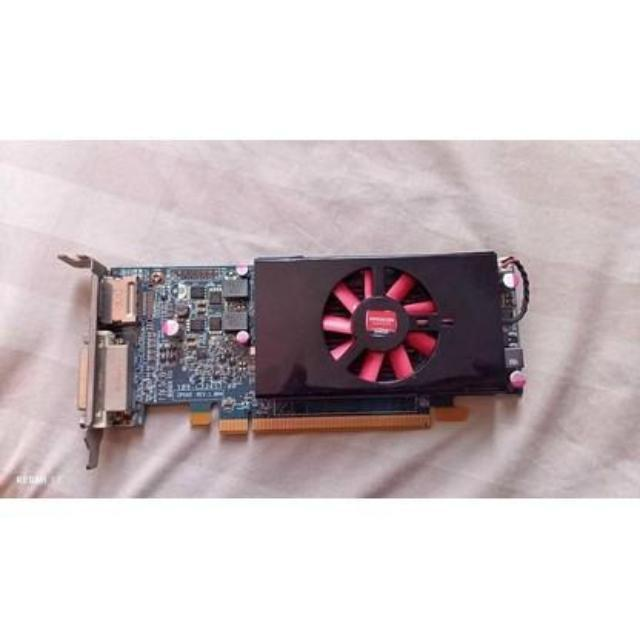GPU: (70, 246, 518, 432)
